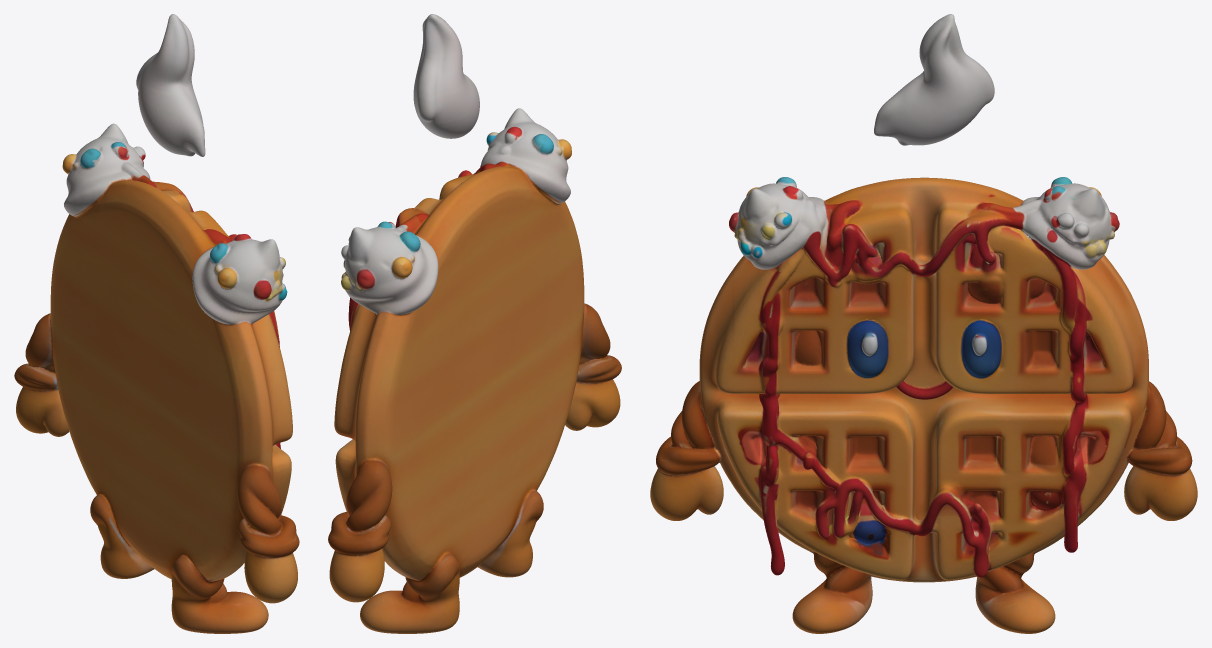
3 renders of one model, left to right at view 1: azimuth 30°, elevation 25°; view 2: azimuth 150°, elevation 25°; view 3: azimuth 270°, elevation 25°, orthographic. The views are drawn at different scales.
Parts seen in each view (by area): view 1: tripo_node_91c7b4ba-e990-4007-bd71-43ac157c9cf6; view 2: tripo_node_91c7b4ba-e990-4007-bd71-43ac157c9cf6; view 3: tripo_node_91c7b4ba-e990-4007-bd71-43ac157c9cf6.
Part boxes in pixels (x1,y1,x2,y2): tripo_node_91c7b4ba-e990-4007-bd71-43ac157c9cf6: (14,14,299,633); tripo_node_91c7b4ba-e990-4007-bd71-43ac157c9cf6: (328,14,621,633); tripo_node_91c7b4ba-e990-4007-bd71-43ac157c9cf6: (650,14,1197,633).
Bounding box in the file's own units: 0.1585 × 1 × 0.8145.
Materials: 1 (1 with a texture image).
